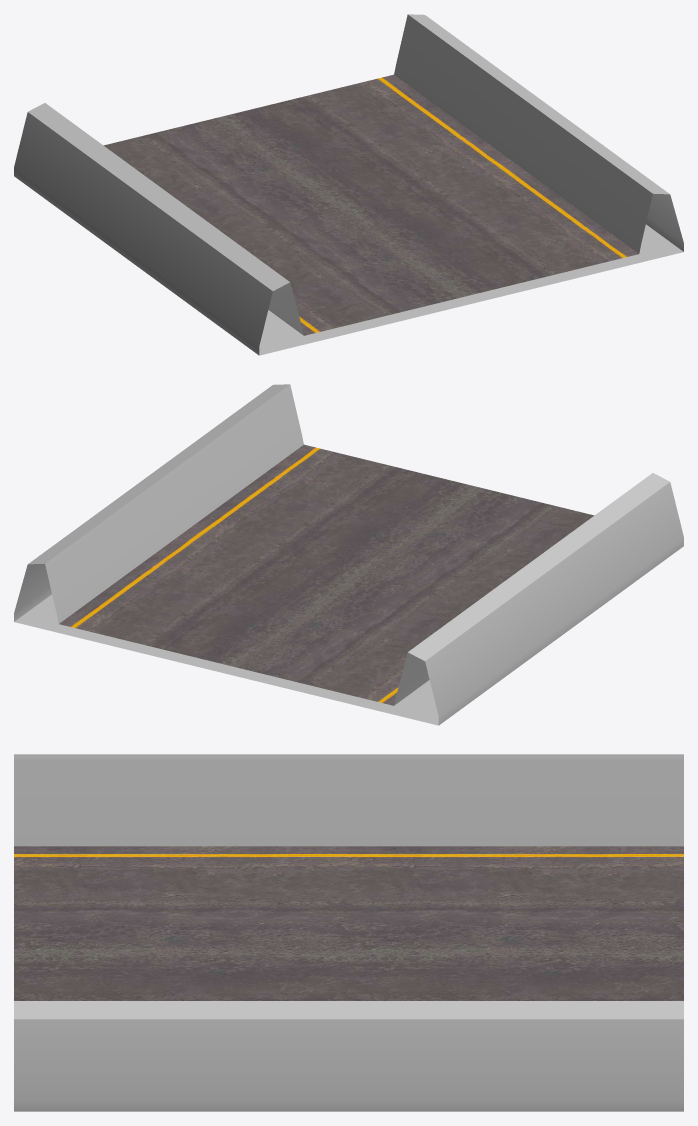
File: RoadBridge.FBX
3 renders of one model, top to bottom at view 1: azimuth 30°, elevation 25°; view 2: azimuth 150°, elevation 25°; view 3: azimuth 270°, elevation 25°, orthographic. The views are drawn at different scales.
Parts seen in each view (by area): view 1: RoadBridge; view 2: RoadBridge; view 3: RoadBridge.
Part boxes in pixels (<box>): RoadBridge: <box>14,14,683,355</box>; RoadBridge: <box>14,384,683,725</box>; RoadBridge: <box>14,754,683,1111</box>.
Size of the model in its own units: 1000 by 148 by 1000.
